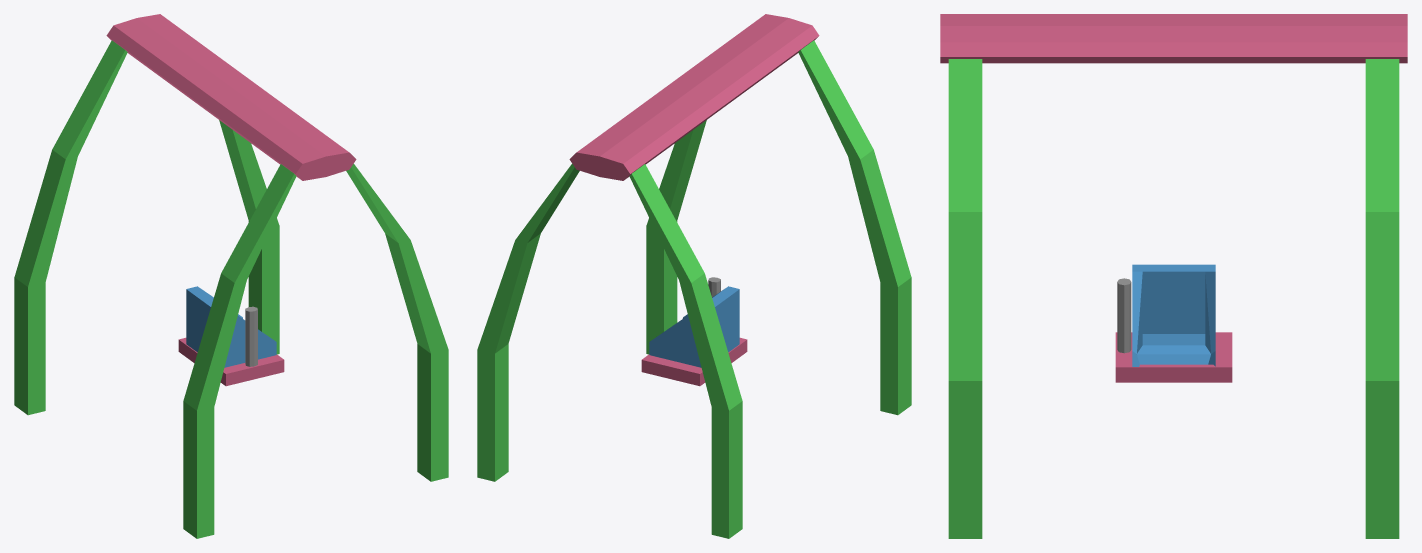
The model's file is Swing.fbx.
3 views of the same model, side by side, from view 1: azimuth 30°, elevation 25°; view 2: azimuth 150°, elevation 25°; view 3: azimuth 270°, elevation 25° (orthographic). The views are drawn at different scales.
Visible parts, largest first — view 1: Cube, Cube.004, Cube.003; view 2: Cube, Cube.004; view 3: Cube, Cube.004, Cube.003.
Part boxes in pixels (x1,y1,x2,y2): Cube: (14, 14, 448, 538); Cube.004: (178, 286, 284, 386); Cube.003: (245, 306, 257, 366); Cube: (477, 14, 911, 538); Cube.004: (641, 286, 747, 386); Cube: (940, 14, 1407, 538); Cube.004: (1115, 264, 1232, 382); Cube.003: (1117, 278, 1131, 353).
Bounding box in the file's own units: 860 × 1157 × 1120.
